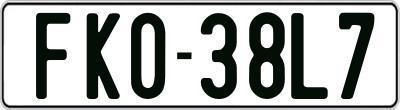0: (129, 12, 169, 104)
3: (198, 12, 239, 102)
7: (339, 11, 374, 98)
8: (247, 10, 285, 100)
F: (36, 12, 70, 103)
K: (85, 11, 121, 102)
L: (290, 11, 330, 100)
